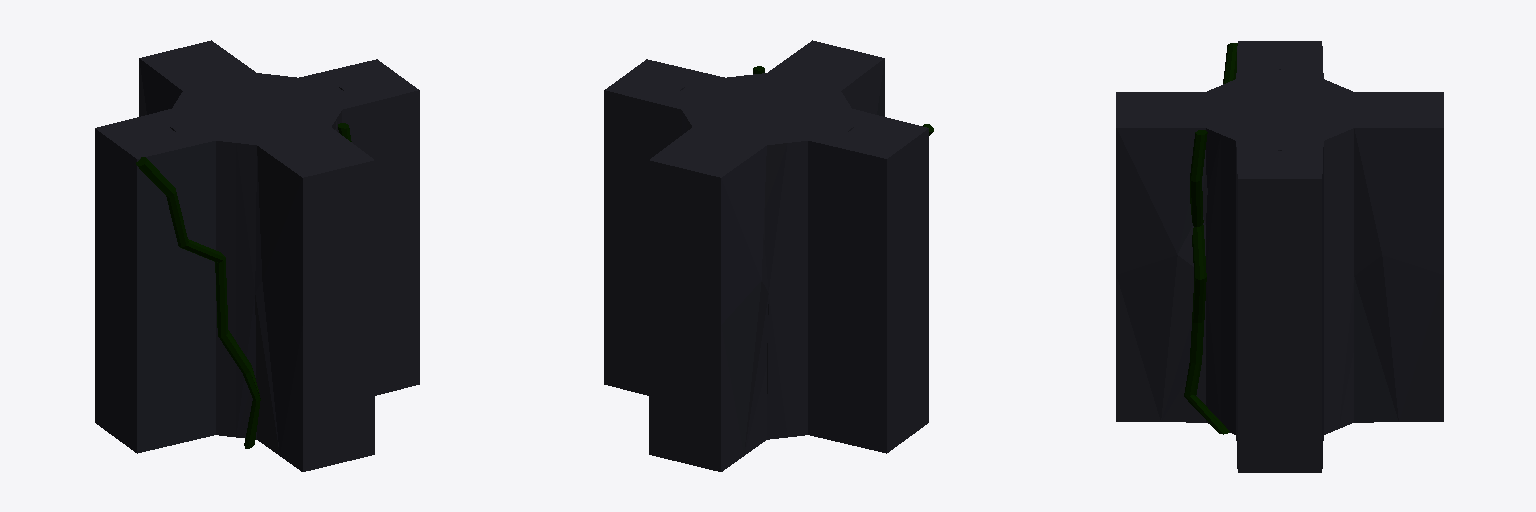
Rendered from Wall_crossing.obj.
The picture shows the model from 3 angles: view 1: azimuth 30°, elevation 25°; view 2: azimuth 150°, elevation 25°; view 3: azimuth 270°, elevation 25°; orthographic projection.
Visible parts, largest first — view 1: Cube, Cube.001; view 2: Cube; view 3: Cube, Cube.003.
Part boxes in pixels (x1,y1,x2,y2): Cube: (95, 40, 419, 471); Cube.001: (136, 157, 260, 448); Cube: (604, 40, 928, 471); Cube: (1116, 41, 1443, 472); Cube.003: (1184, 130, 1229, 434).
Size of the model in its own units: 4.05 by 4.02 by 4.03.